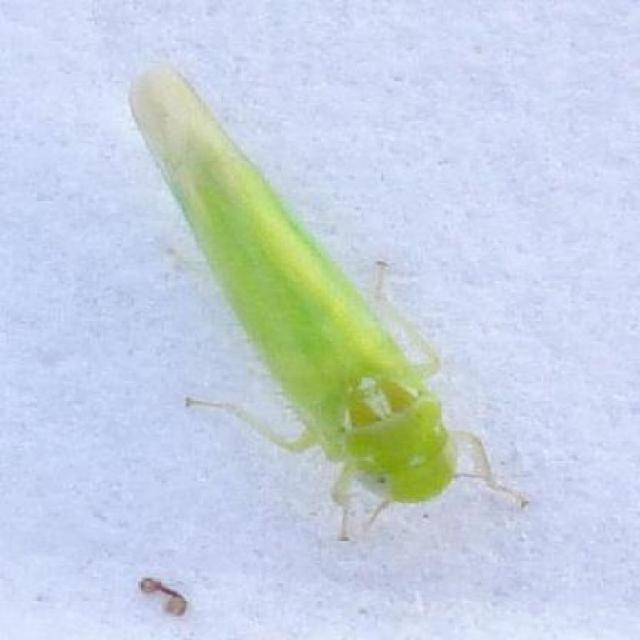green-leafhopper: (130, 69, 496, 525)
